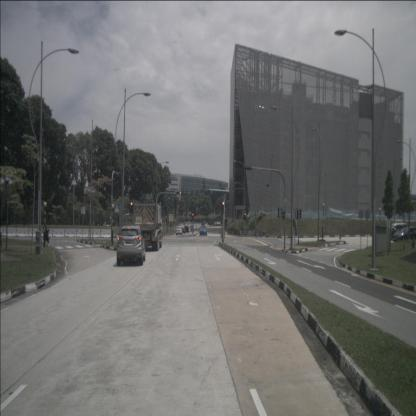cone: (412, 235, 415, 248)
